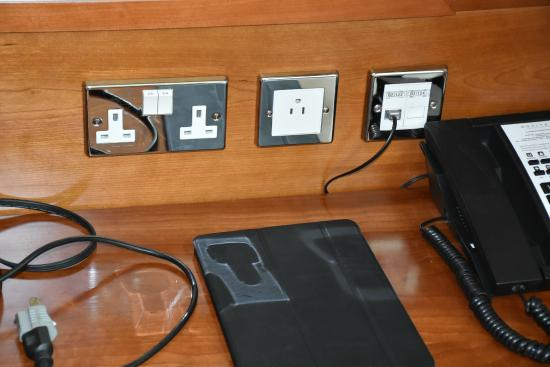outlet: (286, 93, 311, 121)
